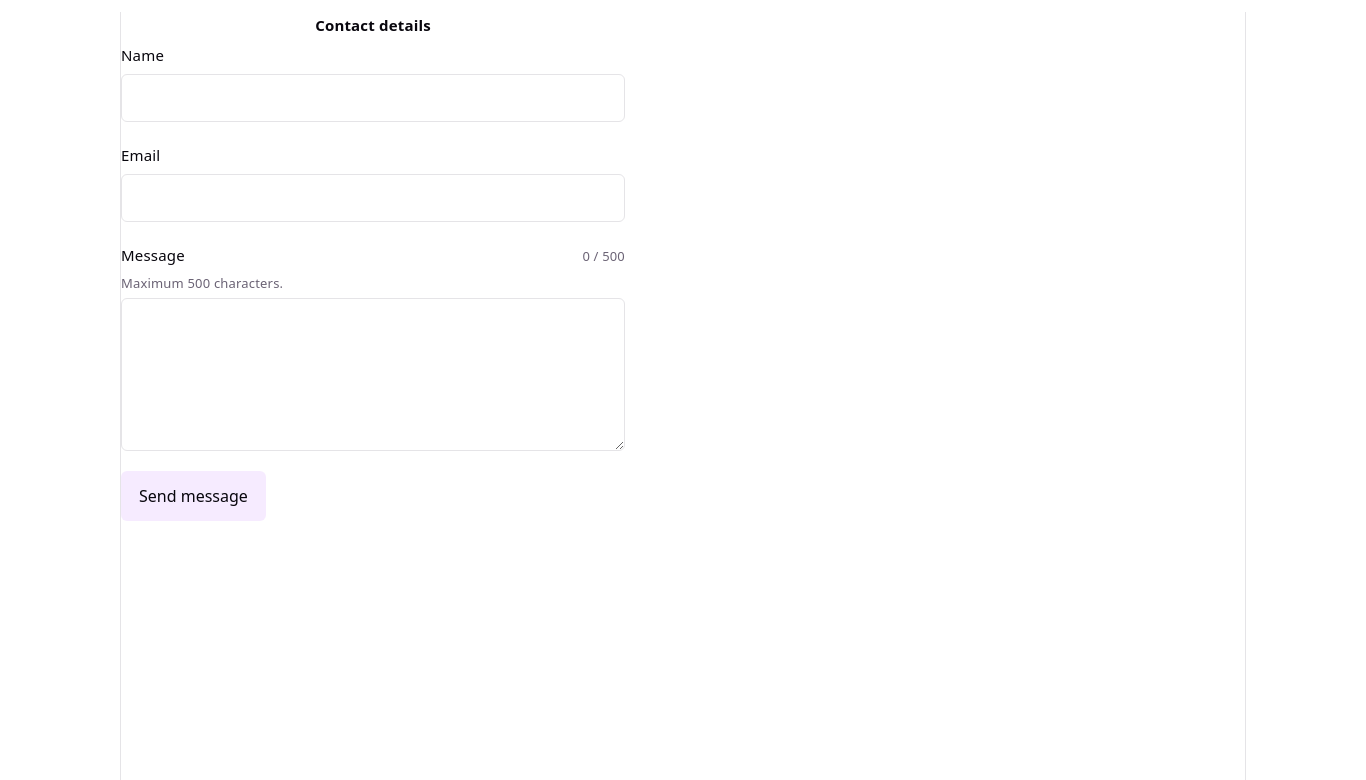
Test: ContactForm › shows accessible inline errors when submitted empty
The width and height of the screenshot is (1366, 780).
Click the button "Send message".
click(193, 496)  # box [121,471,266,521]
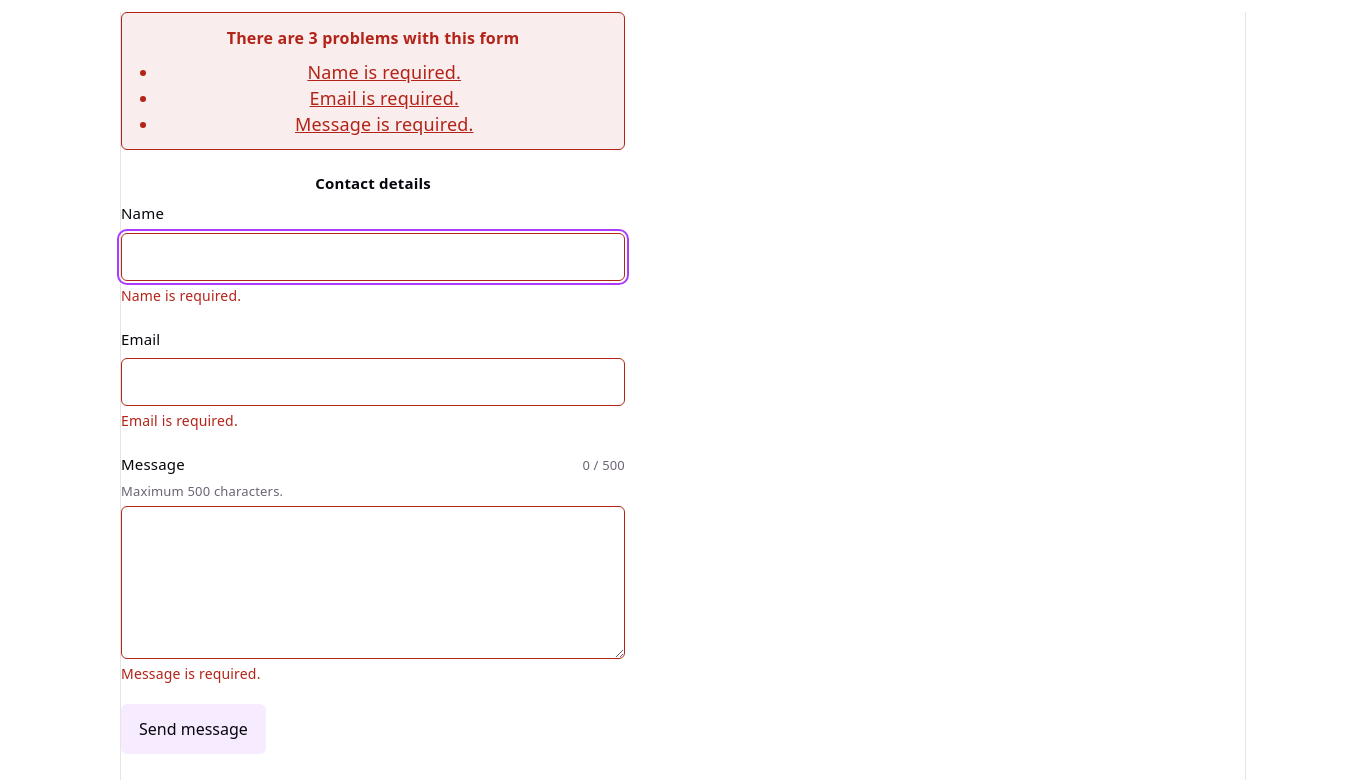
Check: the text "Name is required." is shown, box [121,286,241,305]
Check: the text "Email is required." is shown, box [121,411,238,430]
Check: the text "Message is required." is shown, box [121,664,261,683]
